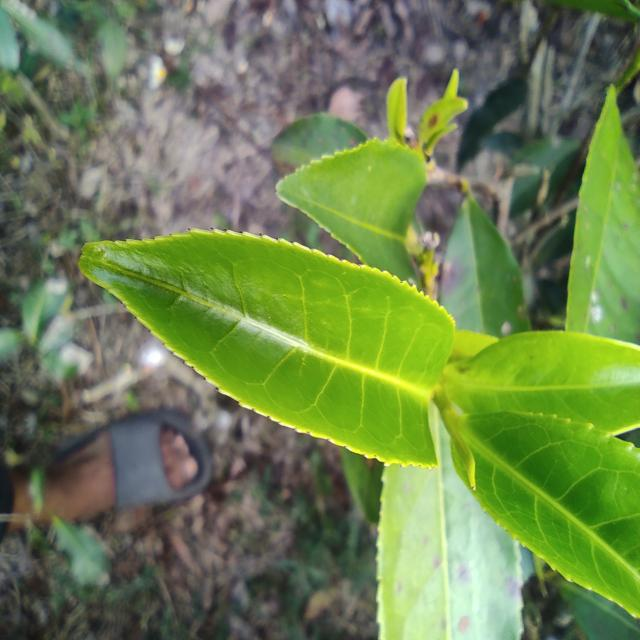Category B(2-4 days): (70, 210, 464, 486)
